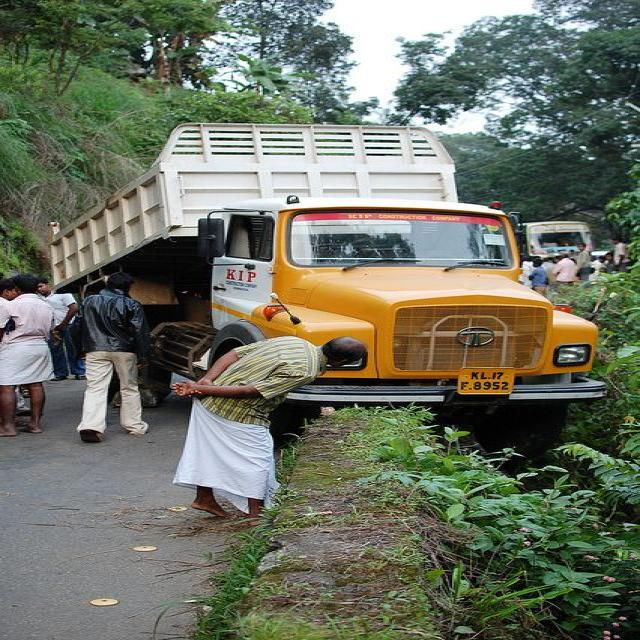truck: (51, 125, 605, 451)
